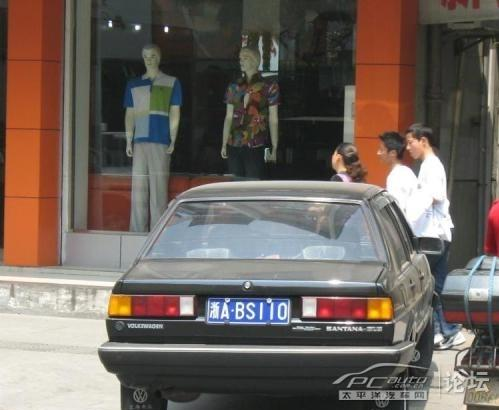plate_number: (206, 296, 290, 327)
